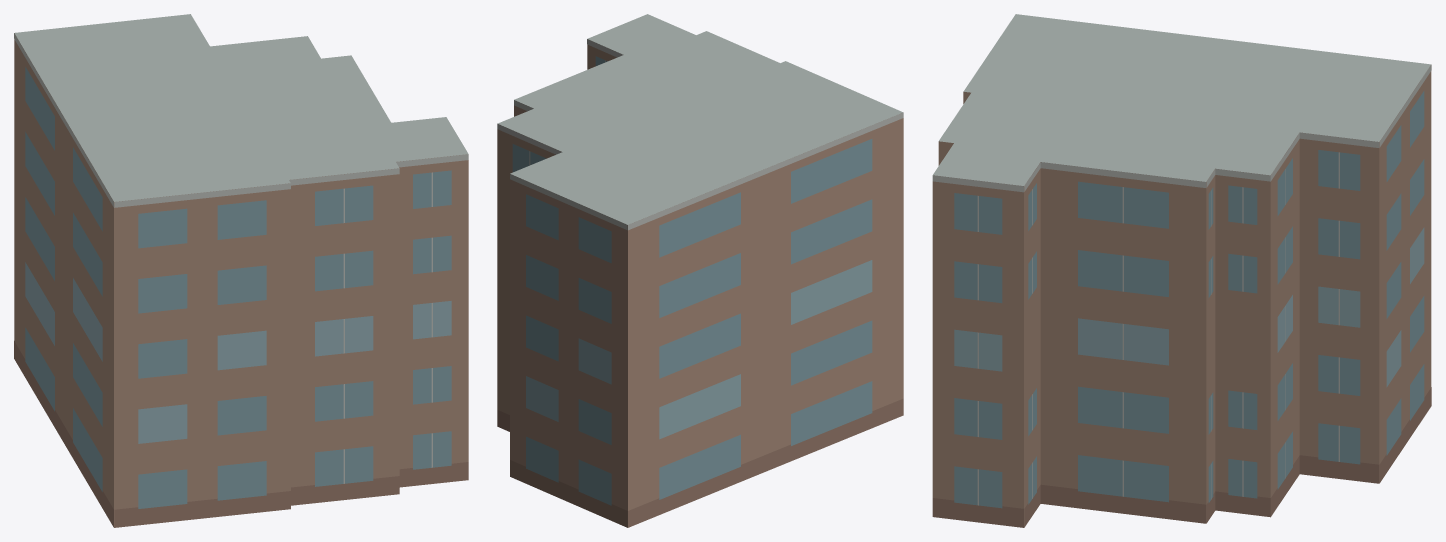
The model's file is survey-upis-32784863.glb.
3 views of the same model, side by side, from view 1: azimuth 30°, elevation 25°; view 2: azimuth 150°, elevation 25°; view 3: azimuth 270°, elevation 25° (orthographic). The views are drawn at different scales.
Visible parts, largest first — view 1: survey-upis-32784863.tmp; view 2: survey-upis-32784863.tmp; view 3: survey-upis-32784863.tmp.
Part boxes in pixels (x1=…): survey-upis-32784863.tmp: x1=14, y1=14, x2=468, y2=527; survey-upis-32784863.tmp: x1=497, y1=14, x2=903, y2=527; survey-upis-32784863.tmp: x1=932, y1=14, x2=1431, y2=527.
Size of the model in its own units: 14.48 by 13.4 by 17.74.
